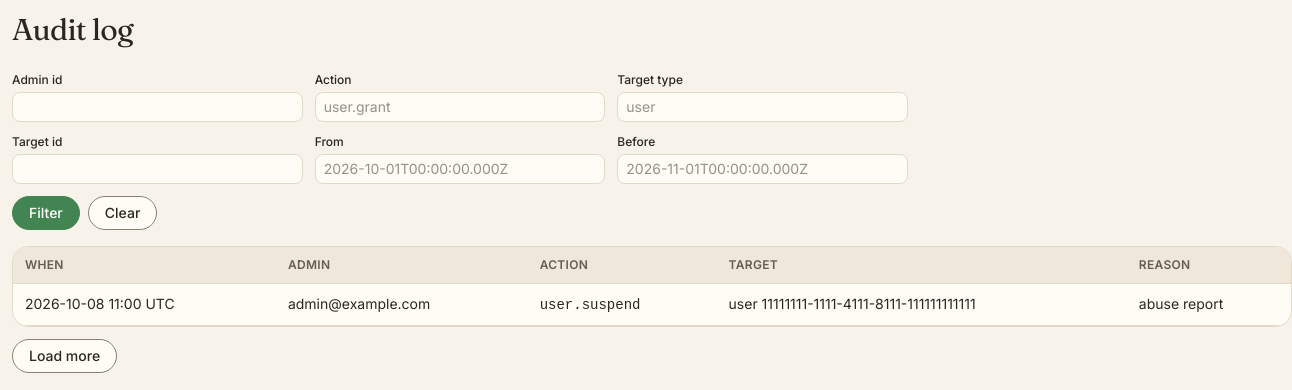
it: configuration, audit log, checkpoint (CR.5) › lists the audit log, newest first, with more on demand
Expected: the row that starts with "2026-10-08 11:00 UTC" is shown, x1=13 y1=284 x2=1291 y2=326
Click the button "Load more": coordinates (65, 356) x1=12 y1=339 x2=117 y2=373
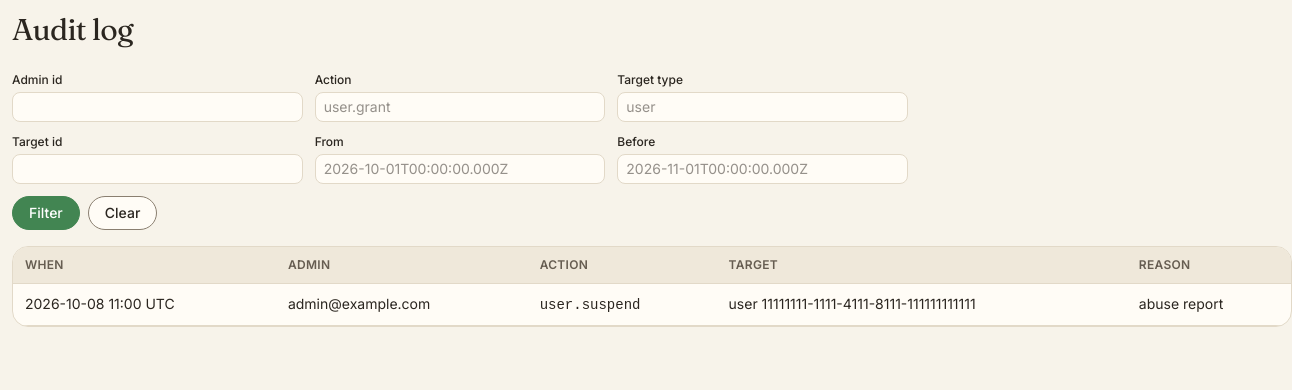
Expected: the button "Load more" is gone
